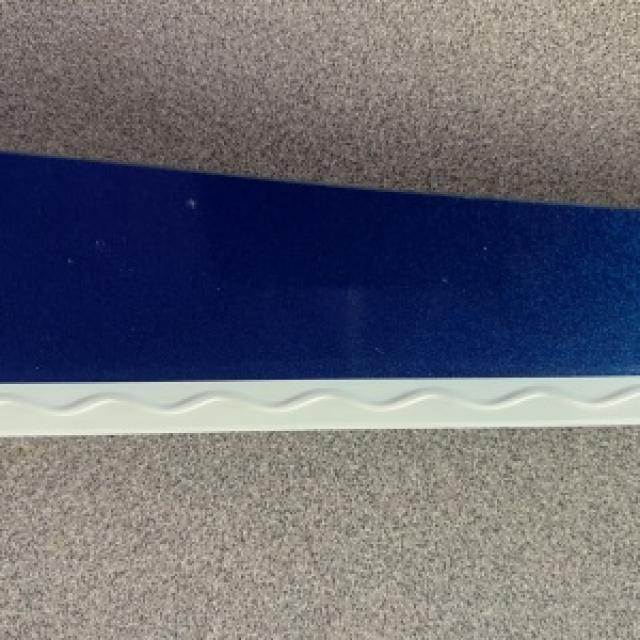healthy: (0, 151, 638, 435)
